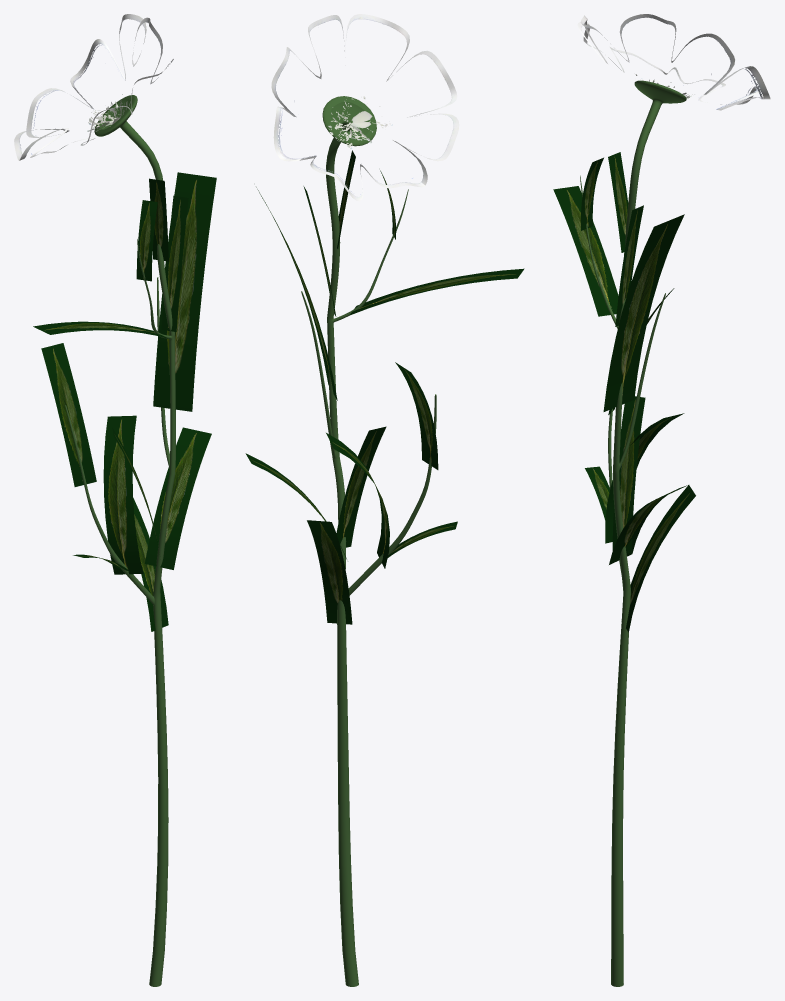
The model's file is daisy_single_8.fbx.
3 views of the same model, side by side, from view 1: azimuth 30°, elevation 25°; view 2: azimuth 150°, elevation 25°; view 3: azimuth 270°, elevation 25° (orthographic). The views are drawn at different scales.
Visible parts, largest first — view 1: daisy_single_8_leaf, daisy_single_8_stem, daisy_single_8_petal; view 2: daisy_single_8_stem, daisy_single_8_leaf, daisy_single_8_petal; view 3: daisy_single_8_leaf, daisy_single_8_stem, daisy_single_8_petal.
Part boxes in pixels (x1,y1,x2,y2): daisy_single_8_leaf: (33, 172, 216, 631); daisy_single_8_stem: (65, 95, 175, 986); daisy_single_8_petal: (14, 14, 173, 160); daisy_single_8_stem: (301, 96, 436, 986); daisy_single_8_leaf: (245, 150, 524, 624); daisy_single_8_petal: (271, 14, 459, 201); daisy_single_8_leaf: (553, 152, 695, 632); daisy_single_8_stem: (580, 80, 686, 986); daisy_single_8_petal: (577, 14, 770, 110).
Bounding box in the file's own units: 5.44 × 22.21 × 4.48.
Materials: 3 (2 with a texture image).
